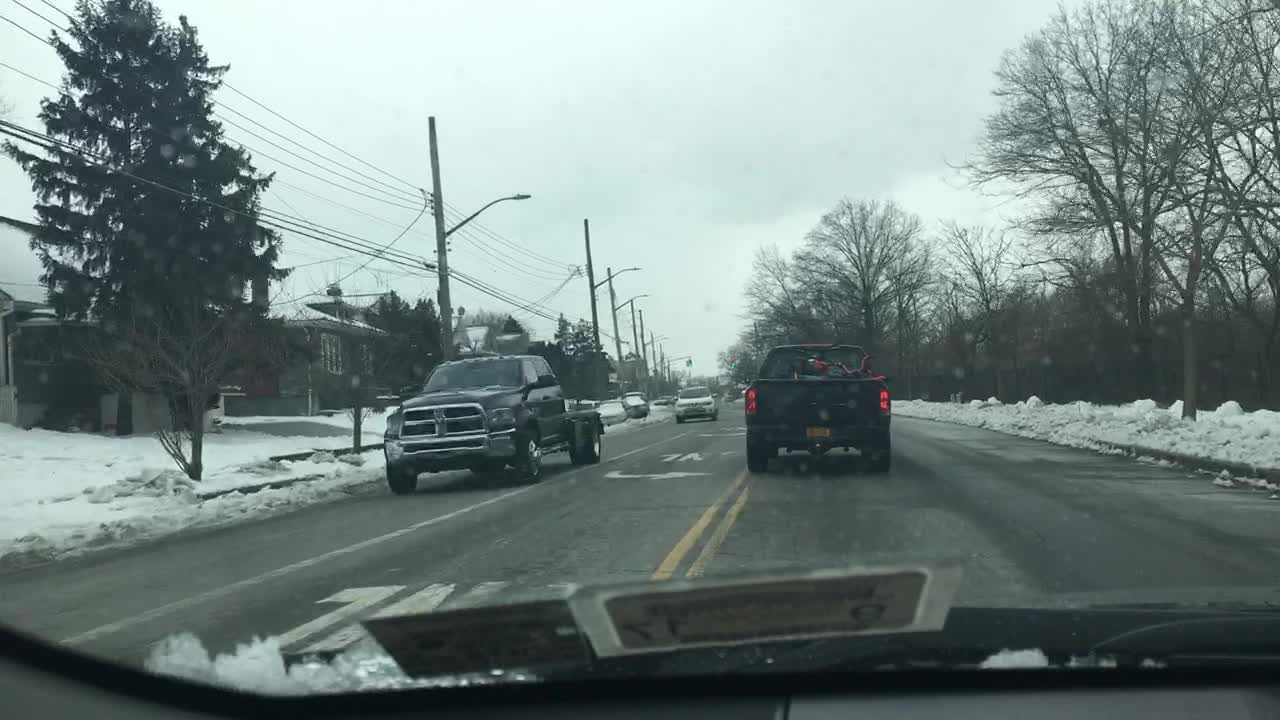bike: (792, 347, 836, 378), (828, 352, 874, 377)
car: (674, 384, 716, 423), (621, 391, 647, 401), (654, 392, 672, 405), (723, 391, 738, 402)
truck: (383, 355, 603, 492), (745, 342, 892, 470)
